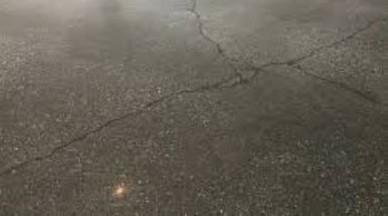crack: (0, 75, 241, 182), (262, 54, 388, 105), (180, 0, 259, 80), (286, 13, 388, 66)
